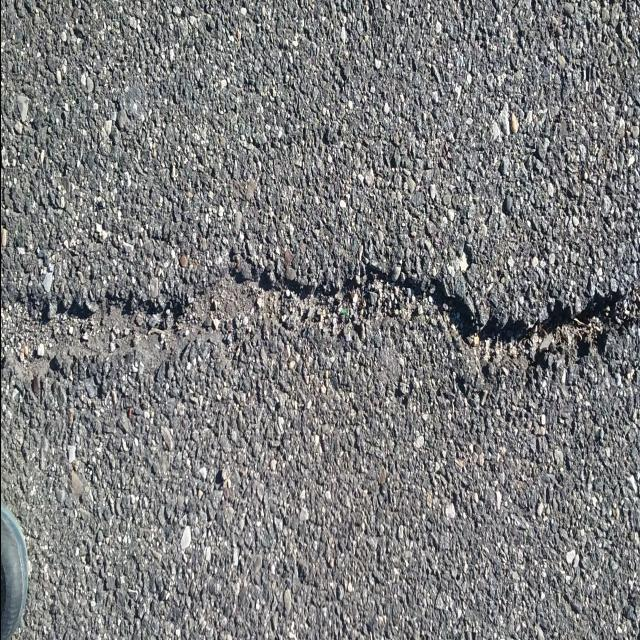Crack: (0, 251, 640, 380)
